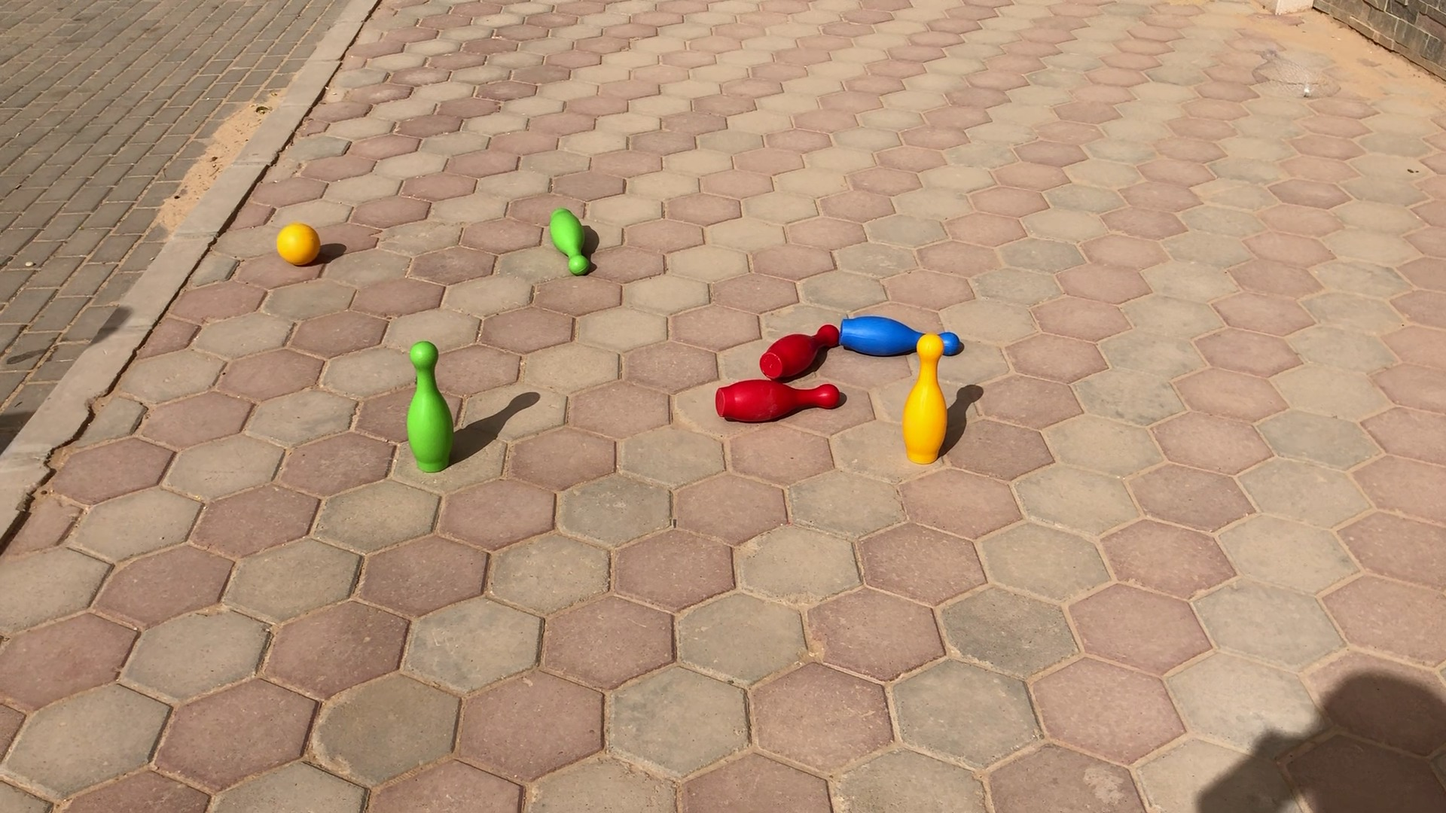pin: (839, 310, 971, 363), (905, 330, 953, 461), (406, 342, 453, 470), (714, 379, 842, 421), (758, 324, 831, 381), (548, 209, 593, 276)
